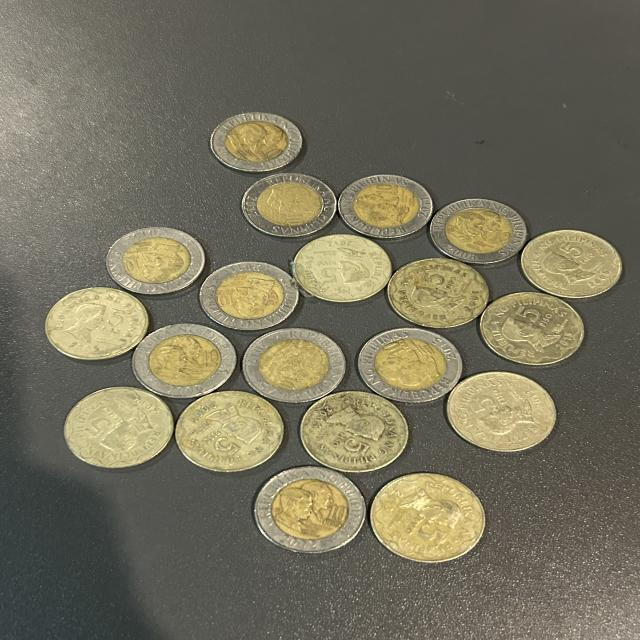10_Old_Front: (274, 484, 352, 540), (263, 340, 339, 391), (258, 178, 322, 233), (150, 338, 220, 386), (377, 339, 448, 386), (352, 183, 422, 229), (124, 240, 194, 280), (451, 207, 504, 257), (226, 120, 292, 160)
5_Old_Front: (54, 295, 134, 372), (77, 389, 161, 460), (185, 398, 278, 458), (312, 406, 401, 468), (385, 487, 470, 551), (303, 242, 389, 305), (462, 385, 545, 446), (401, 267, 478, 328), (495, 303, 573, 361), (538, 236, 609, 286)
